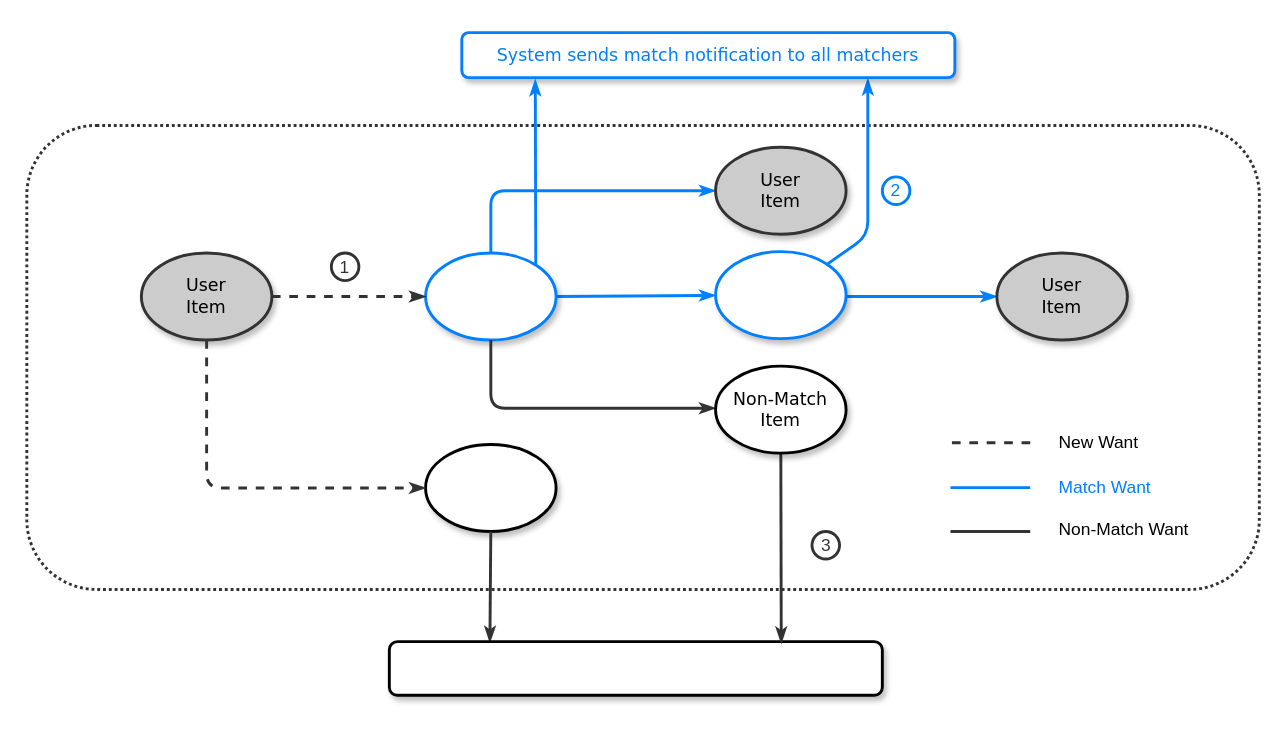
Image size: 1285x731. Some labels were removed from this diagram. Each missing label, with the centre of its shape:
"Bridging Item" belongs at point (782, 296).
"System sends match invitation to non-matchers" belongs at point (636, 670).
"Target Item1" belongs at point (492, 298).
"Target Item2" belongs at point (492, 489).
